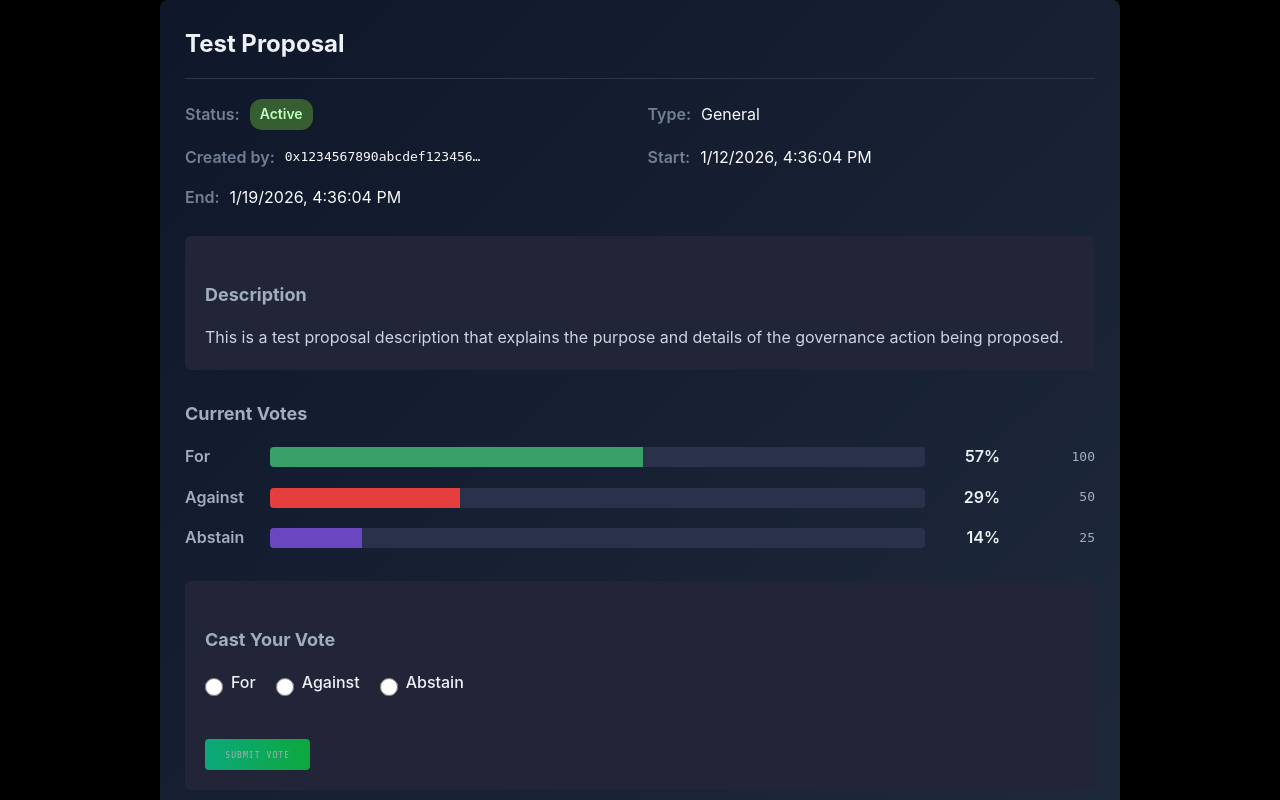
Test: ProposalVotingPanel › successfully submits a vote
Select "For" option and submit
Click the radio button labelled "For".
click(214, 686)  # box x1=205 y1=678 x2=223 y2=696
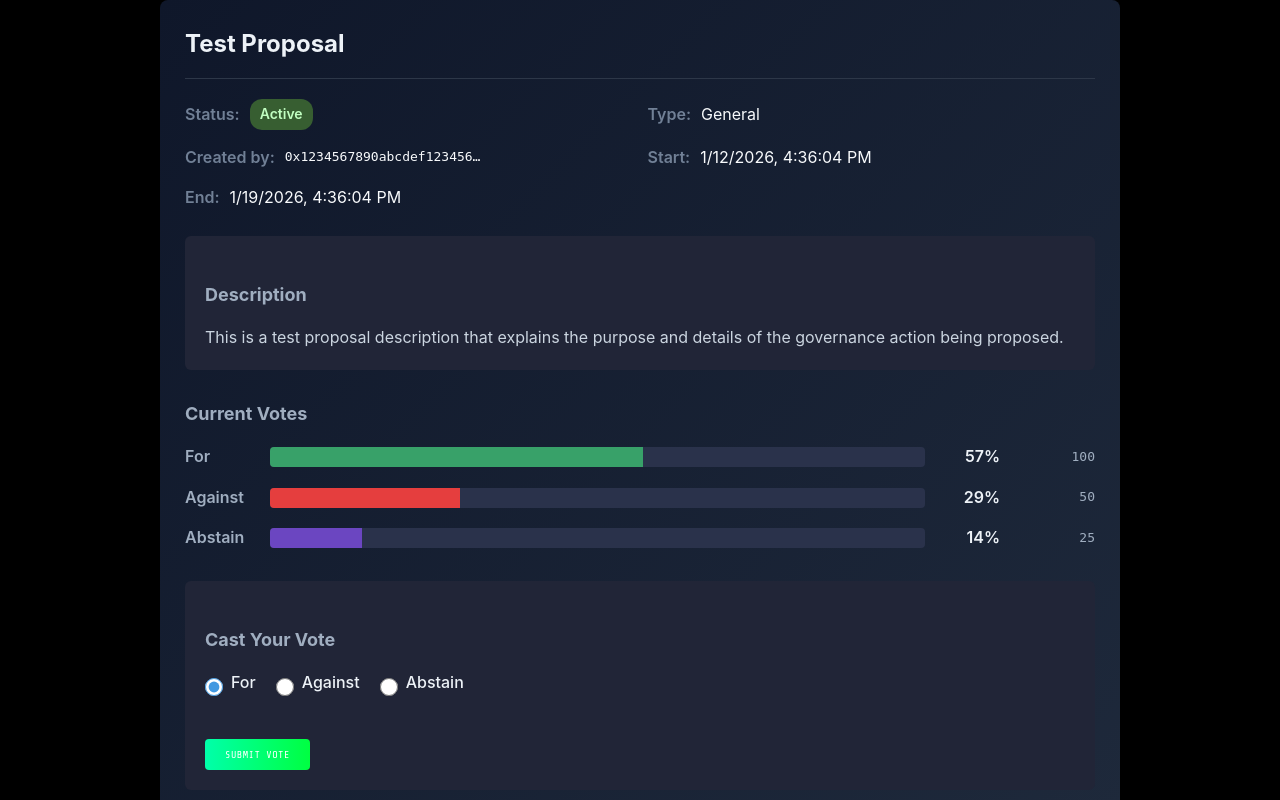
Click the button "Submit Vote".
click(257, 755)  # box x1=205 y1=739 x2=310 y2=770
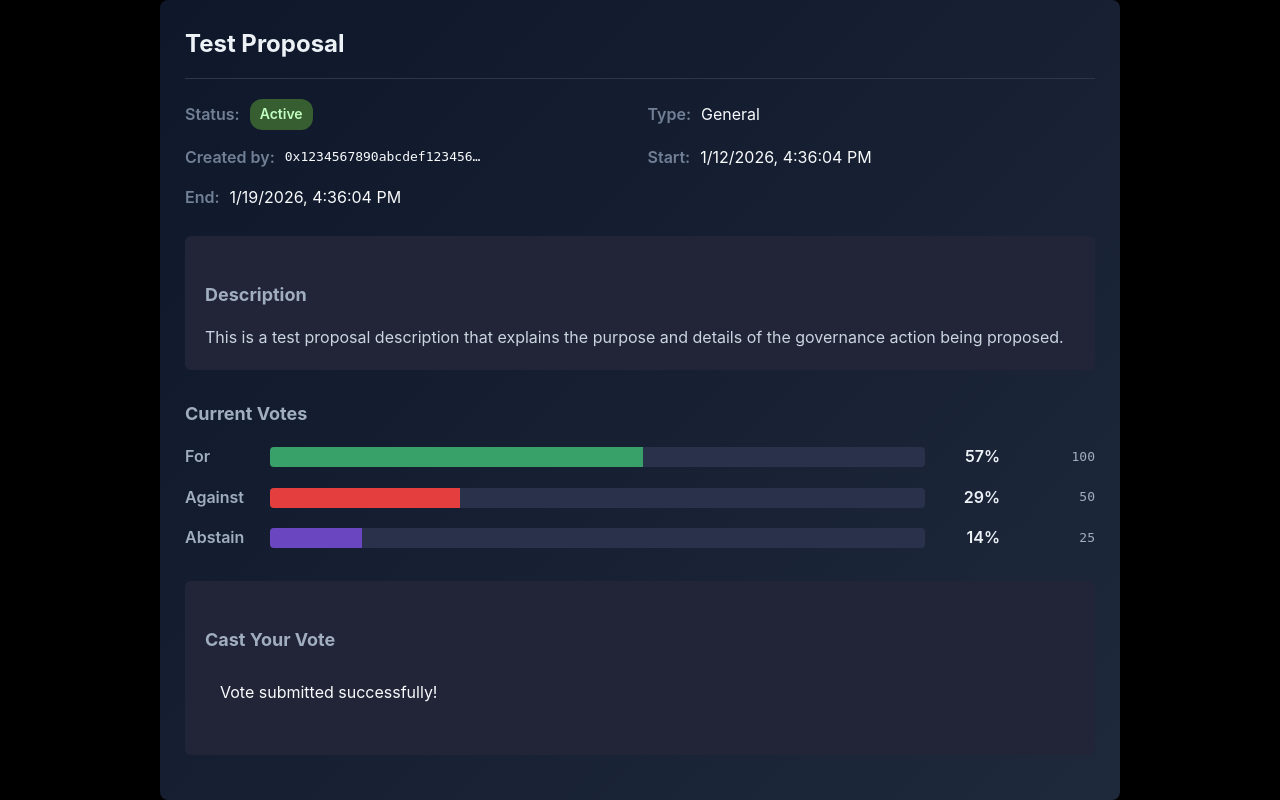
Now the text "Vote submitted successfully!" is shown, box x1=220 y1=682 x2=438 y2=702
